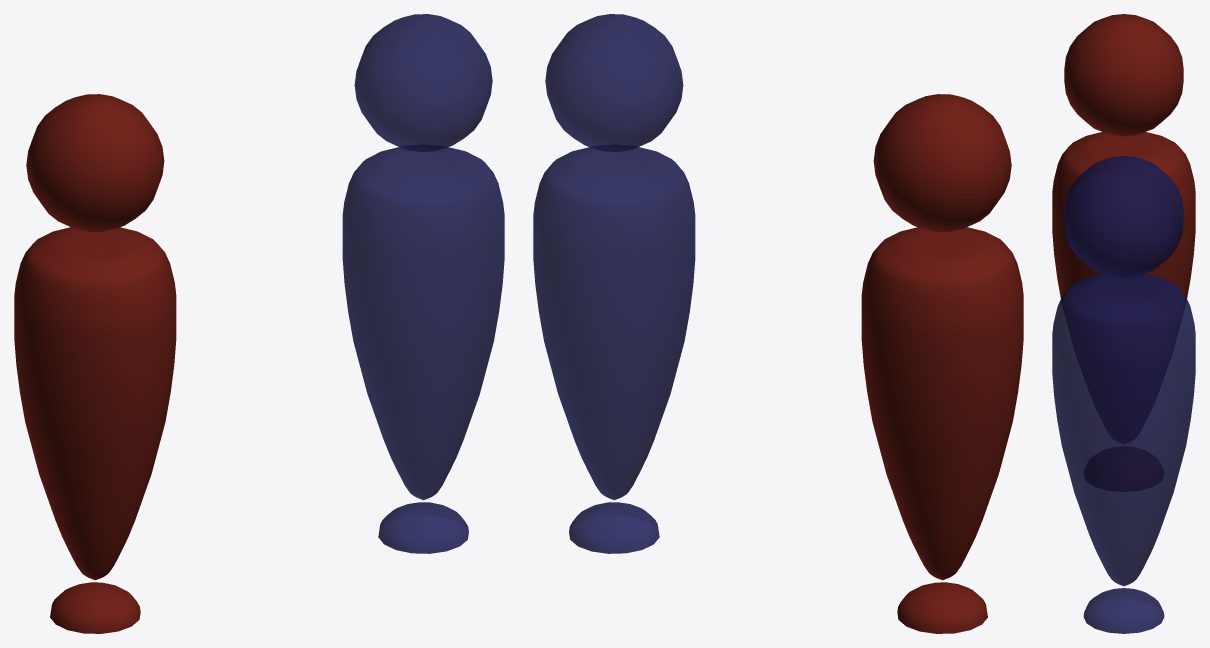
Rendered from PlayerModel.fbx.
3 views of the same model, side by side, from view 1: azimuth 30°, elevation 25°; view 2: azimuth 150°, elevation 25°; view 3: azimuth 270°, elevation 25° (orthographic). The views are drawn at different scales.
Visible parts, largest first — view 1: pCone1 (×2), pSphere2 (×2), pSphere1 (×2); view 2: pCone1 (×2), pSphere2 (×2), pSphere1 (×2); view 3: pCone1 (×2), pSphere2 (×2), pSphere1.
Boxes of the visible parts, x1=… form: pCone1 (×2): x1=14, y1=147, x2=504, y2=580; pSphere2 (×2): x1=26, y1=14, x2=492, y2=232; pSphere1 (×2): x1=50, y1=502, x2=468, y2=633; pCone1 (×2): x1=533, y1=147, x2=1023, y2=580; pSphere2 (×2): x1=545, y1=14, x2=1011, y2=232; pSphere1 (×2): x1=569, y1=502, x2=987, y2=633; pCone1 (×2): x1=1052, y1=132, x2=1195, y2=586; pSphere2 (×2): x1=1064, y1=14, x2=1183, y2=278; pSphere1: x1=1083, y1=588, x2=1164, y2=633.
Size of the model in its own units: 30.37 by 31.69 by 9.06.
